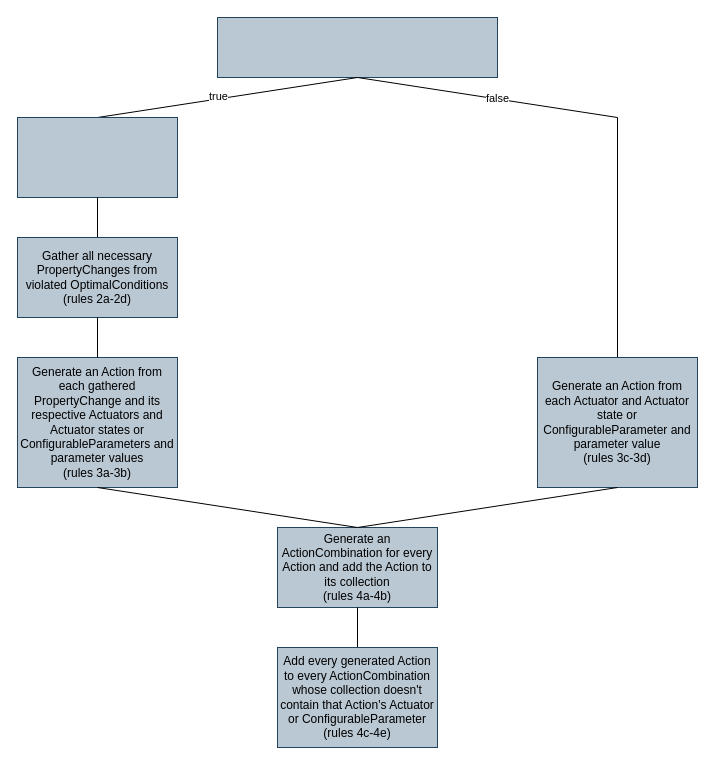
The diagram is 715 pixels wide and 765 high, and some of its shapes have lost their labels. The centre of each missing label's shape, as x and y in pixels:
generateCombinationsOnlyFromOptimalConditions: the point at 357,47
Mark OptimalCondition constraints with their respective Properties (rules 1a-1f): the point at 97,157
